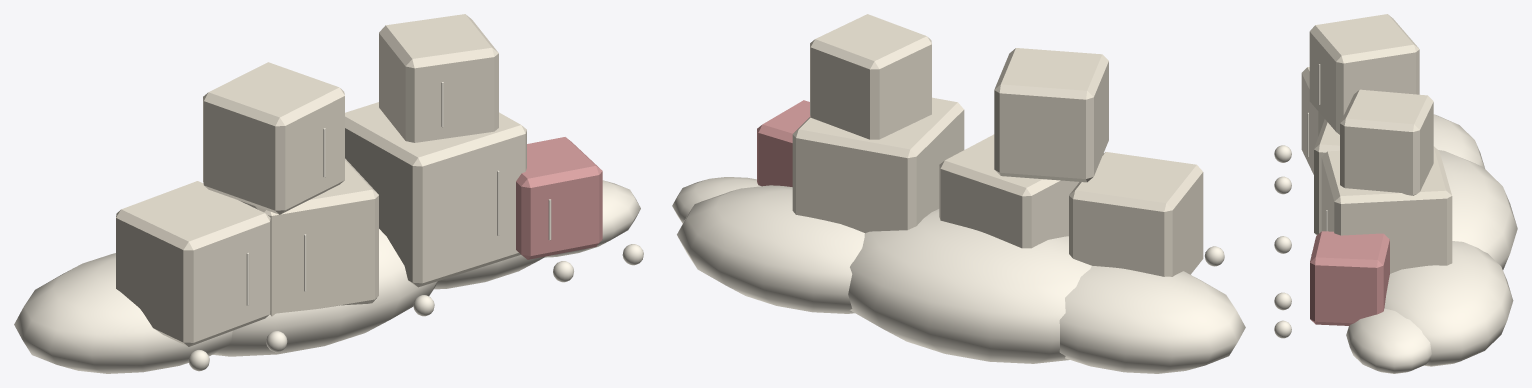
File: orb3_sugar_constellation_7m.glb
3 renders of one model, left to right at view 1: azimuth 30°, elevation 25°; view 2: azimuth 150°, elevation 25°; view 3: azimuth 270°, elevation 25°, orthographic. The views are drawn at different scales.
Visible parts, largest first — view 1: orb3_sugar_constellation_7m__orb3-ivory-ceramic, orb3_sugar_constellation_7m__orb3-foam-cream, orb3_sugar_constellation_7m__orb3-rose-sugar; view 2: orb3_sugar_constellation_7m__orb3-ivory-ceramic, orb3_sugar_constellation_7m__orb3-foam-cream, orb3_sugar_constellation_7m__orb3-rose-sugar; view 3: orb3_sugar_constellation_7m__orb3-ivory-ceramic, orb3_sugar_constellation_7m__orb3-foam-cream, orb3_sugar_constellation_7m__orb3-rose-sugar.
Boxes of the visible parts, x1,y1,x2,y2 form: orb3_sugar_constellation_7m__orb3-ivory-ceramic: (116, 14, 526, 346); orb3_sugar_constellation_7m__orb3-foam-cream: (14, 82, 643, 373); orb3_sugar_constellation_7m__orb3-rose-sugar: (516, 137, 602, 259); orb3_sugar_constellation_7m__orb3-ivory-ceramic: (792, 14, 1203, 276); orb3_sugar_constellation_7m__orb3-foam-cream: (672, 177, 1245, 373); orb3_sugar_constellation_7m__orb3-rose-sugar: (757, 100, 810, 186); orb3_sugar_constellation_7m__orb3-ivory-ceramic: (1301, 14, 1452, 273); orb3_sugar_constellation_7m__orb3-foam-cream: (1274, 64, 1517, 373); orb3_sugar_constellation_7m__orb3-rose-sugar: (1310, 231, 1389, 325).
Size of the model in its own units: 7.8 by 3.39 by 3.29.
